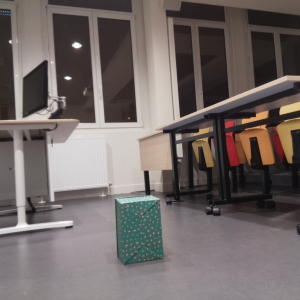small: (113, 193, 166, 269)
